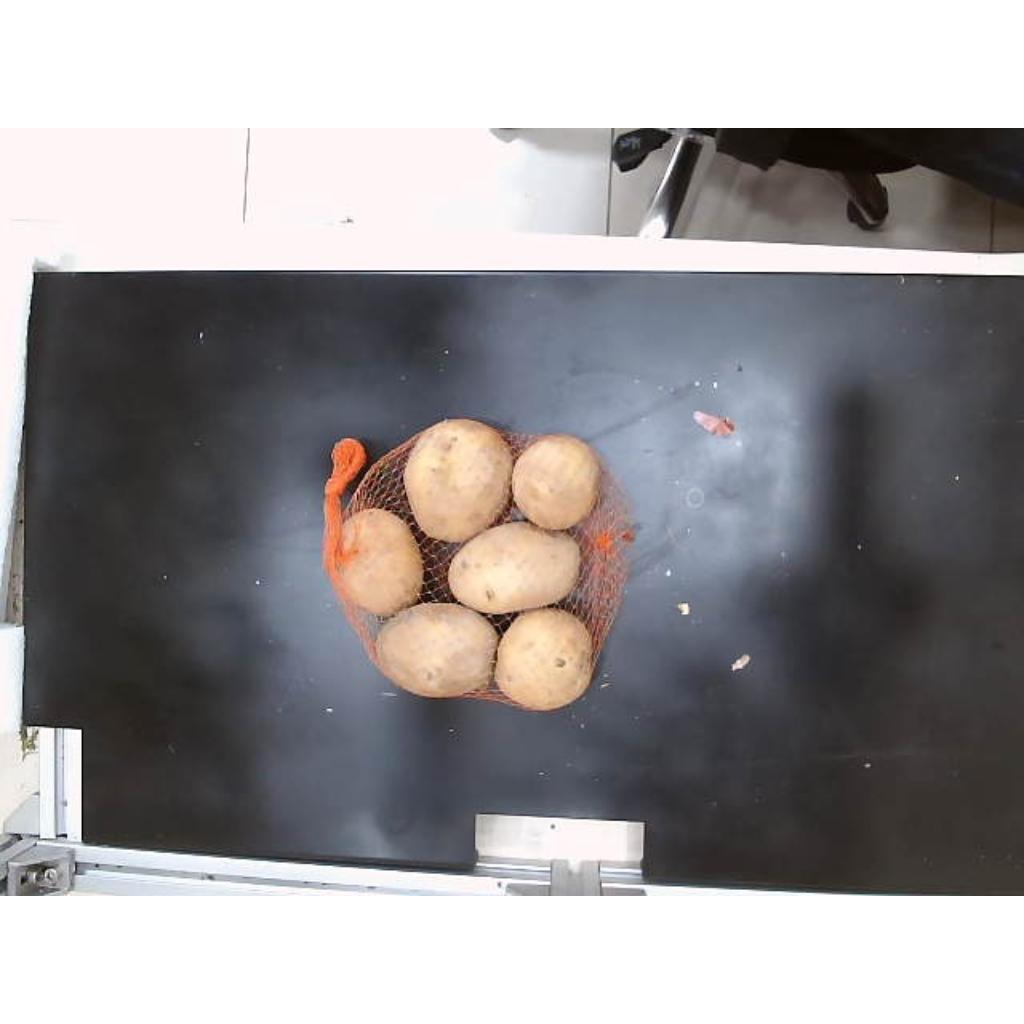potato: (404, 418, 514, 541), (448, 522, 580, 613), (378, 604, 498, 697), (494, 608, 594, 710), (340, 508, 424, 615), (512, 436, 600, 530)
